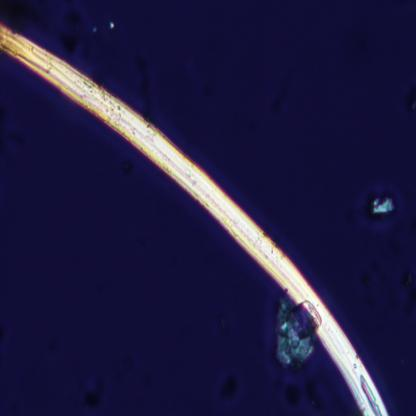Background material: (272, 296, 315, 380), (365, 196, 395, 220)
Microfibre: (0, 21, 387, 415)
